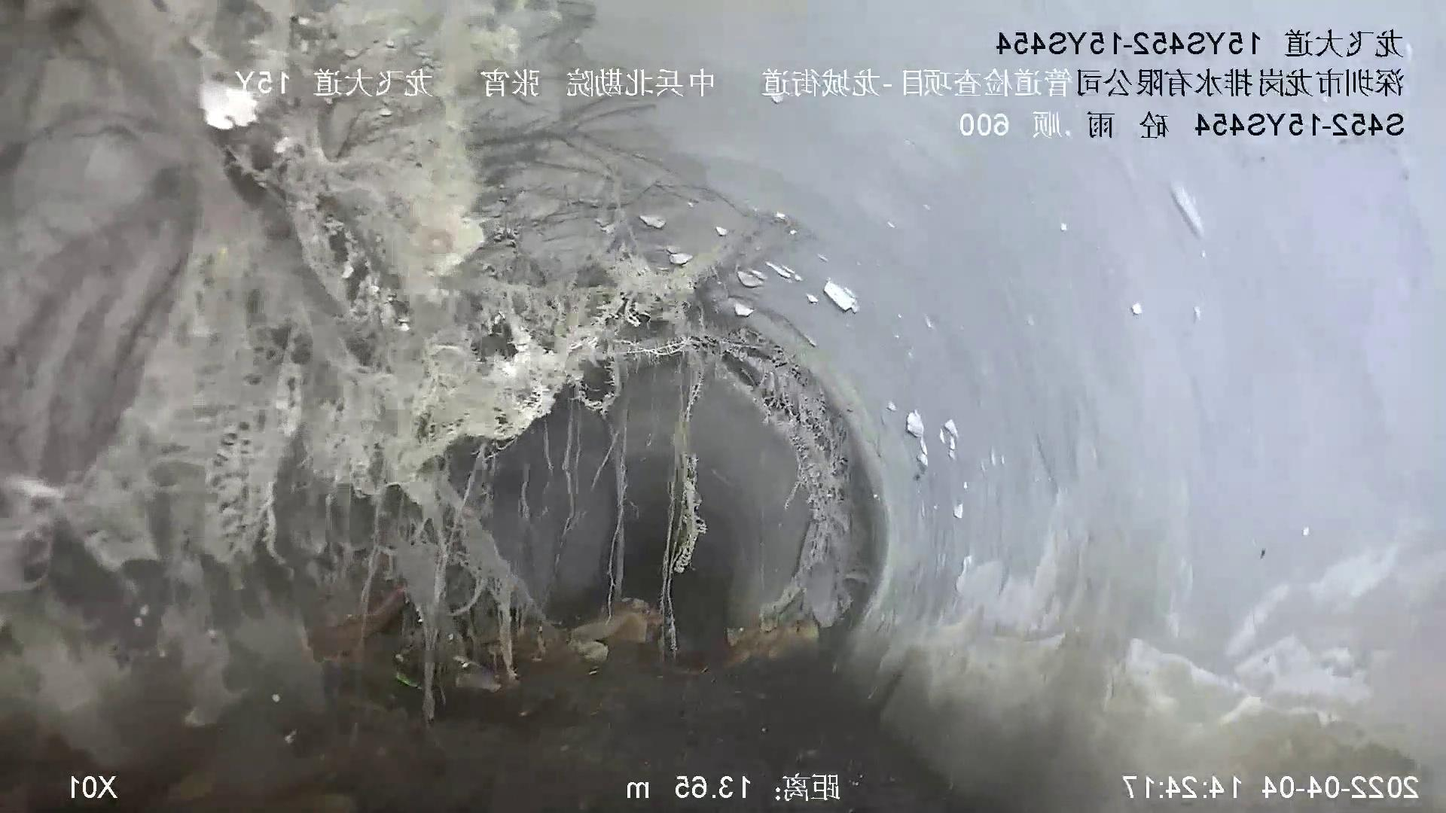CJ: (1, 644, 979, 812)
SG: (1, 0, 882, 723)
